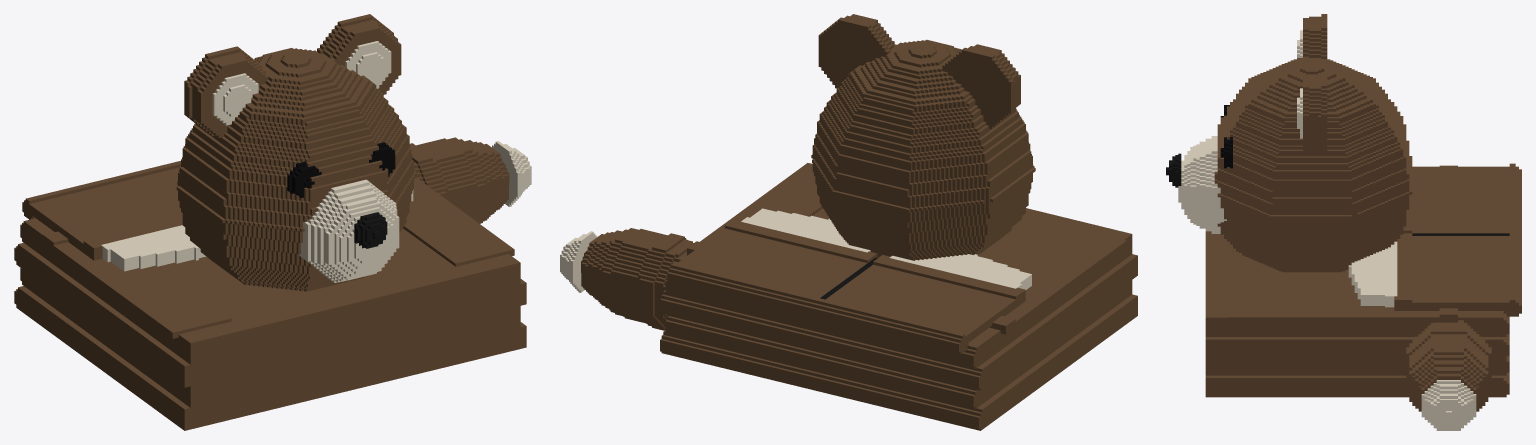
Rendered from fursuit.glb.
3 views of the same model, side by side, from view 1: azimuth 30°, elevation 25°; view 2: azimuth 150°, elevation 25°; view 3: azimuth 270°, elevation 25° (orthographic). The views are drawn at different scales.
Parts seen in each view (by area): view 1: fursuit:compound; view 2: fursuit:compound; view 3: fursuit:compound.
Boxes of the visible parts, left/top/right/bottom form: fursuit:compound: left=14, top=14, right=531, bottom=430; fursuit:compound: left=560, top=14, right=1137, bottom=430; fursuit:compound: left=1166, top=14, right=1521, bottom=430.
Bounding box in the file's own units: 0.648 × 0.396 × 0.468.
